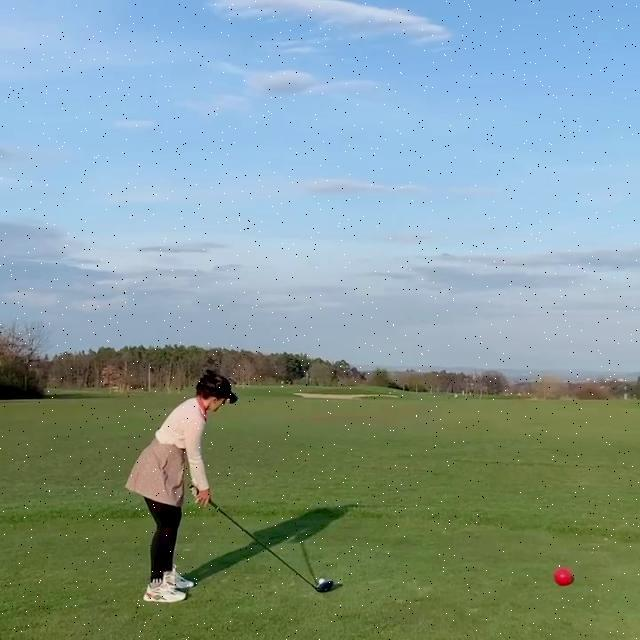ClubHandle: (188, 483, 337, 596)
ClubHead: (316, 581, 335, 594)
GolfBall: (319, 579, 325, 584)
